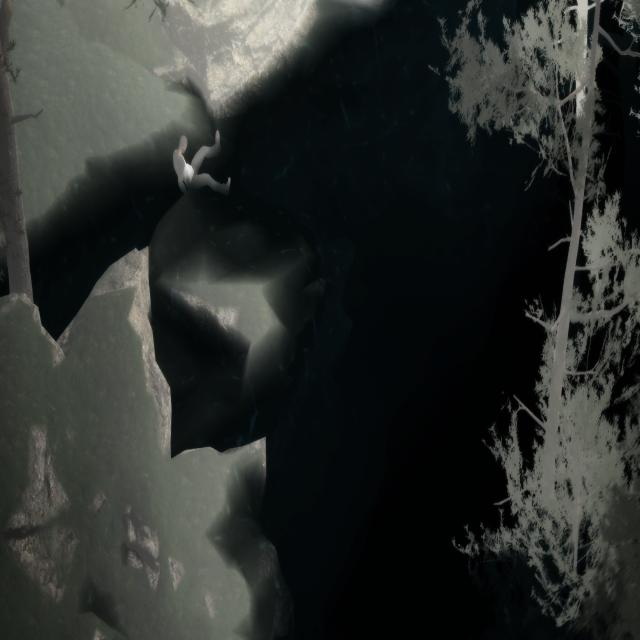Human: (168, 127, 235, 205)
